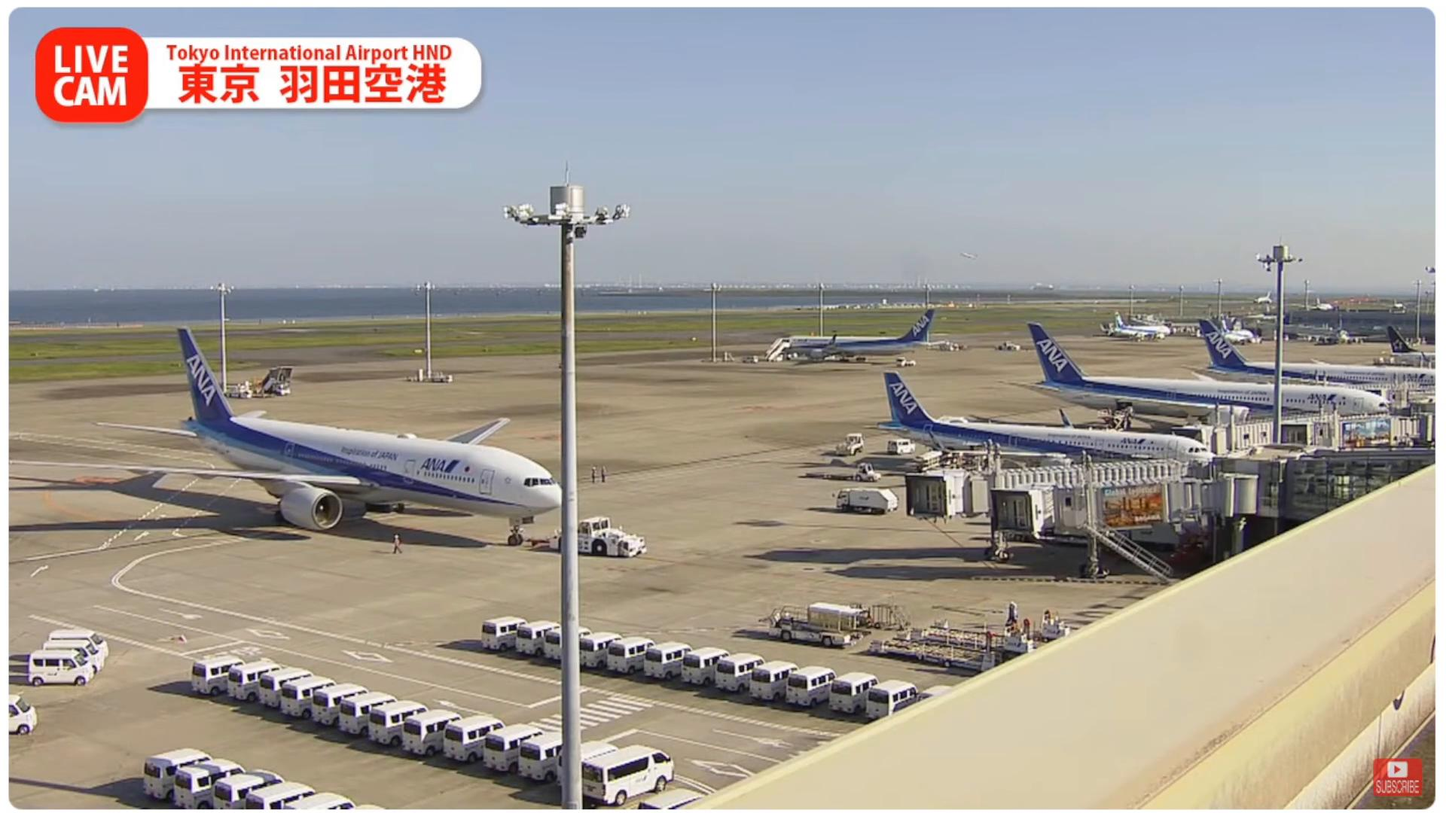APS: (543, 515, 661, 565)
Aerobridge: (904, 456, 1198, 520), (990, 479, 1258, 539)
Airplane: (16, 321, 579, 548)
JCPL: (904, 613, 1077, 658), (867, 634, 1012, 675)
Skyloader: (761, 600, 870, 651)
Window: (1281, 462, 1437, 524)
